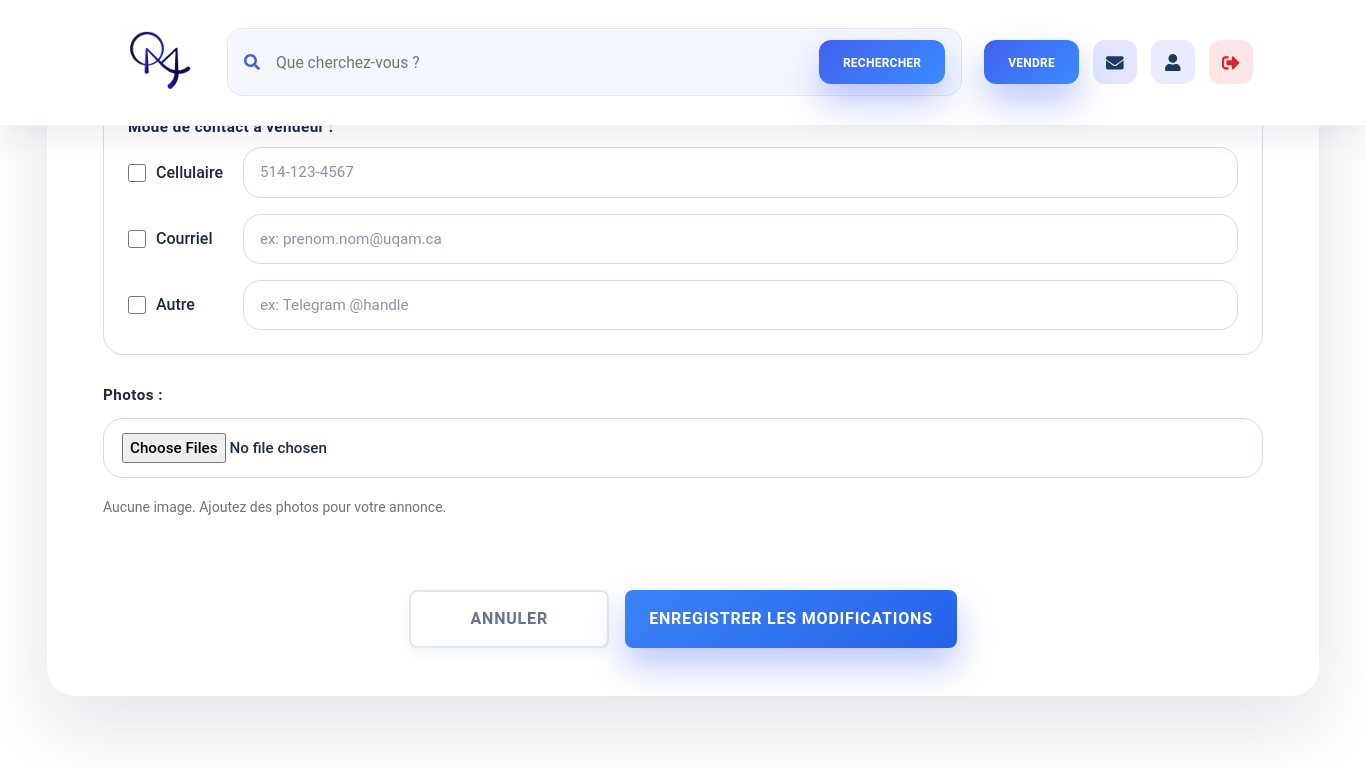
it: EditListing › validates contact method selection
The width and height of the screenshot is (1366, 768).
(page scrolled)
Click the button "Enregistrer les modifications": (791, 619) [625,590,957,648]
(page scrolled)
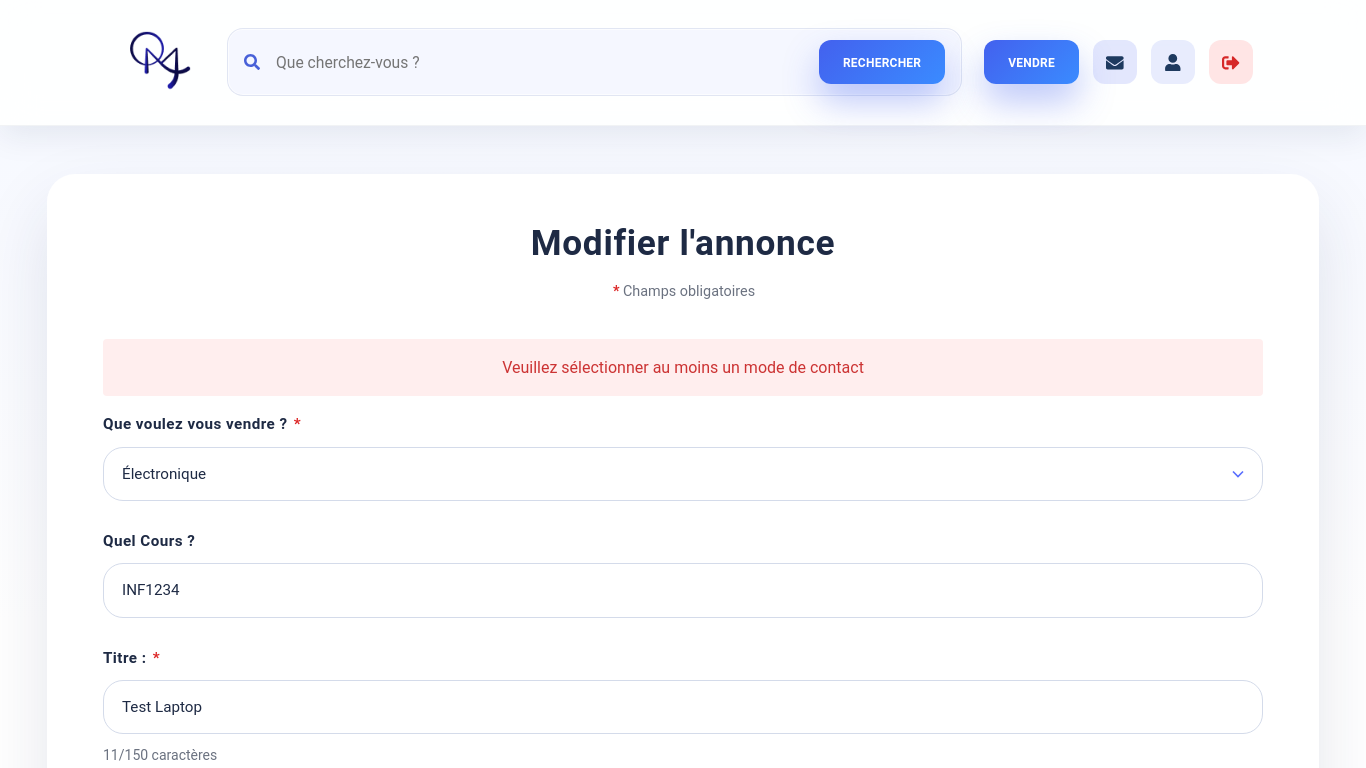
Check: the text "Veuillez sélectionner au moins un mode de contact" is shown, box [103,339,1263,396]
